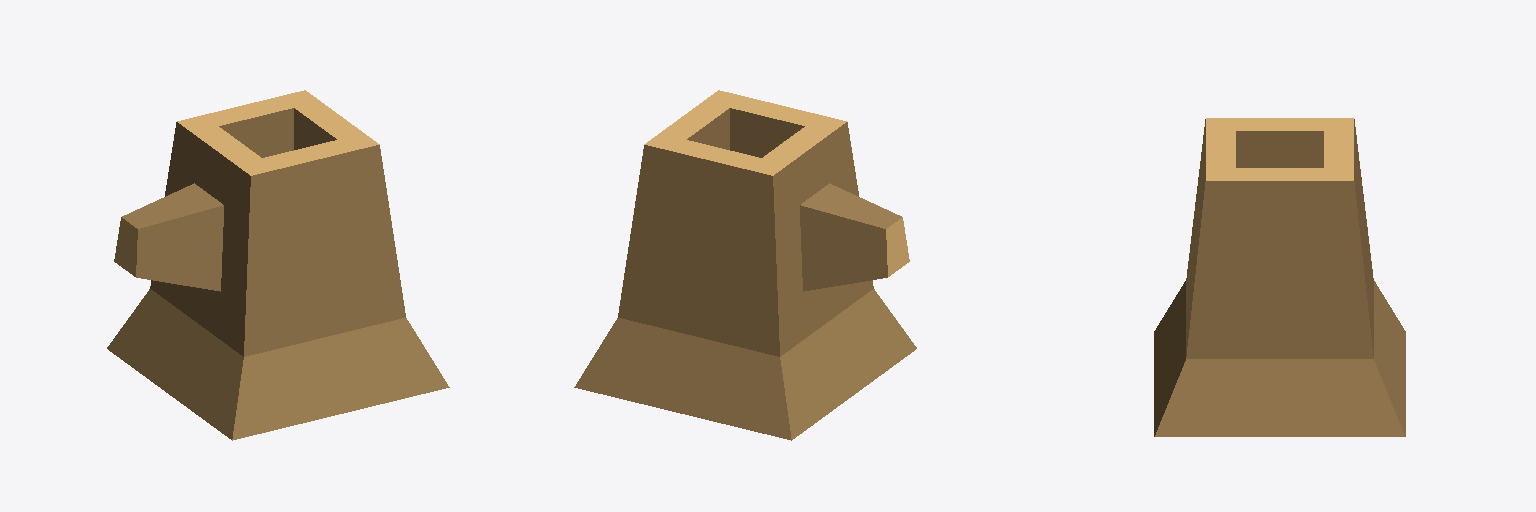
3 renders of one model, left to right at view 1: azimuth 30°, elevation 25°; view 2: azimuth 150°, elevation 25°; view 3: azimuth 270°, elevation 25°, orthographic.
Parts seen in each view (by area): view 1: Mesh1 Trunk_Alt Model; view 2: Mesh1 Trunk_Alt Model; view 3: Mesh1 Trunk_Alt Model.
Boxes of the visible parts, <box> form: Mesh1 Trunk_Alt Model: <box>107,90,449,440</box>; Mesh1 Trunk_Alt Model: <box>574,90,916,440</box>; Mesh1 Trunk_Alt Model: <box>1154,118,1405,436</box>.
Bounding box in the file's own units: 0.9675 × 0.83 × 0.8037.
1 materials, 1 textured.